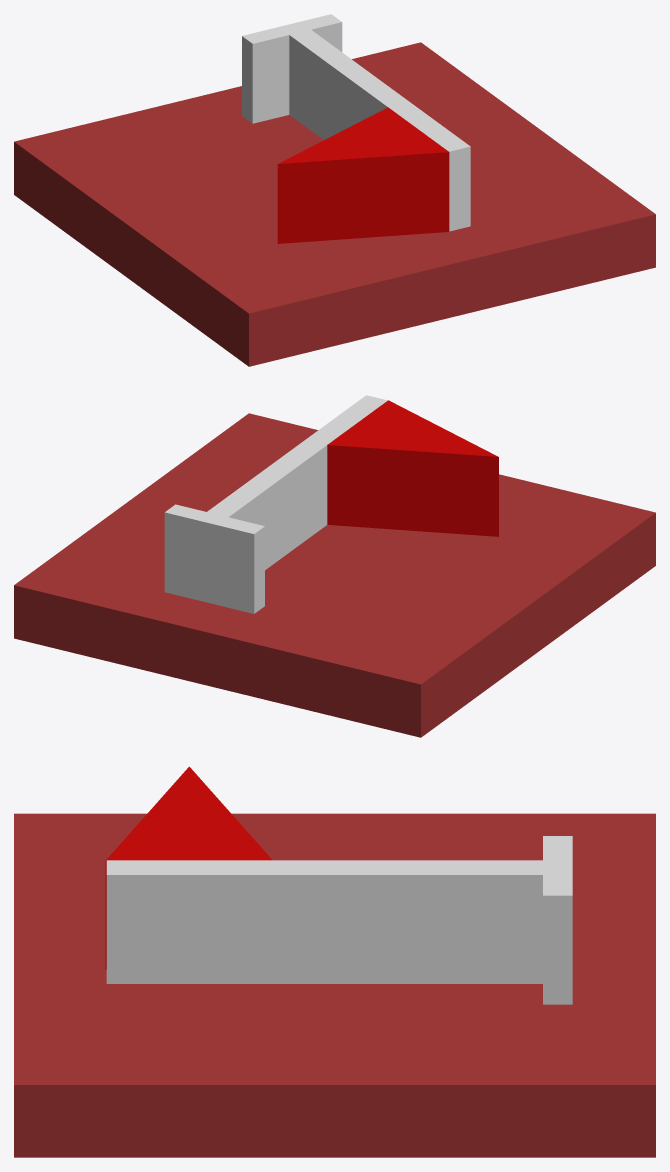
File: tile_flag.fbx
3 views of the same model, one above another, from view 1: azimuth 30°, elevation 25°; view 2: azimuth 150°, elevation 25°; view 3: azimuth 270°, elevation 25° (orthographic). The views are drawn at different scales.
Parts seen in each view (by area): view 1: pCube6; view 2: pCube6; view 3: pCube6.
Boxes of the visible parts, x1=… form: pCube6: x1=14, y1=14, x2=655, y2=366; pCube6: x1=14, y1=395, x2=655, y2=737; pCube6: x1=14, y1=766, x2=655, y2=1157.
Bounding box in the file's own units: 8 × 2.5 × 8.
